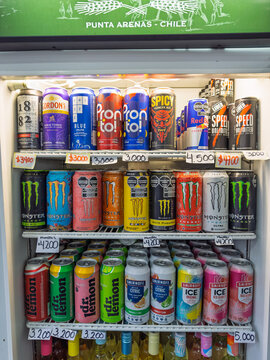soft_drink: (175, 168, 203, 234), (73, 169, 102, 231), (24, 257, 50, 324), (205, 259, 231, 325), (96, 87, 122, 150), (100, 258, 123, 323)
